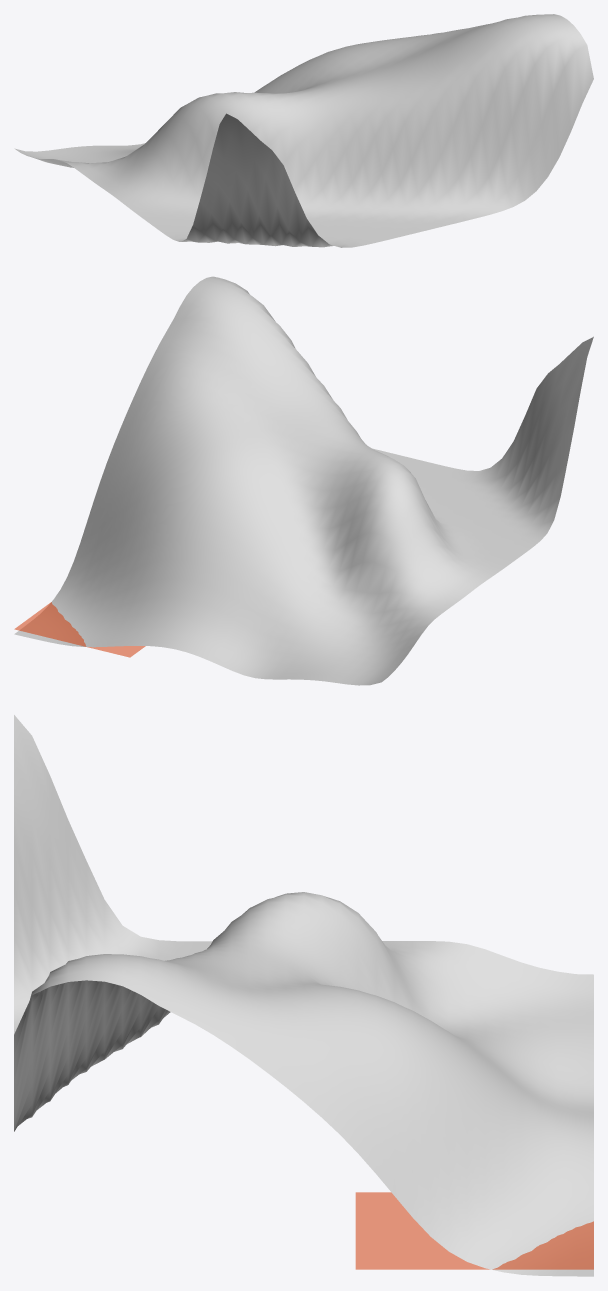
The model's file is chunk_-4_2.glb.
3 views of the same model, one above another, from view 1: azimuth 30°, elevation 25°; view 2: azimuth 150°, elevation 25°; view 3: azimuth 270°, elevation 25° (orthographic). The views are drawn at different scales.
Visible parts, largest first — view 1: chunk_-4_2-col; view 2: chunk_-4_2-col, lava-lava; view 3: chunk_-4_2-col, lava-lava.
Part boxes in pixels (x1,y1,x2,y2): chunk_-4_2-col: (14,14,593,247); chunk_-4_2-col: (14,276,593,685); lava-lava: (14,602,145,657); chunk_-4_2-col: (14,715,593,1276); lava-lava: (355,1192,593,1269).
Size of the model in its own units: 64 by 38.6 by 64.
